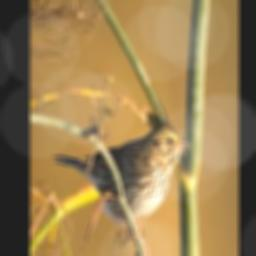Sparrow: (51, 117, 192, 256)
